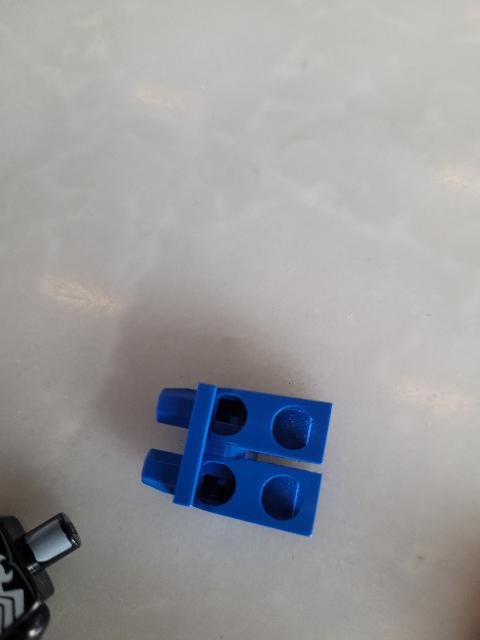Plastik: (140, 373, 331, 546), (0, 509, 85, 640)
